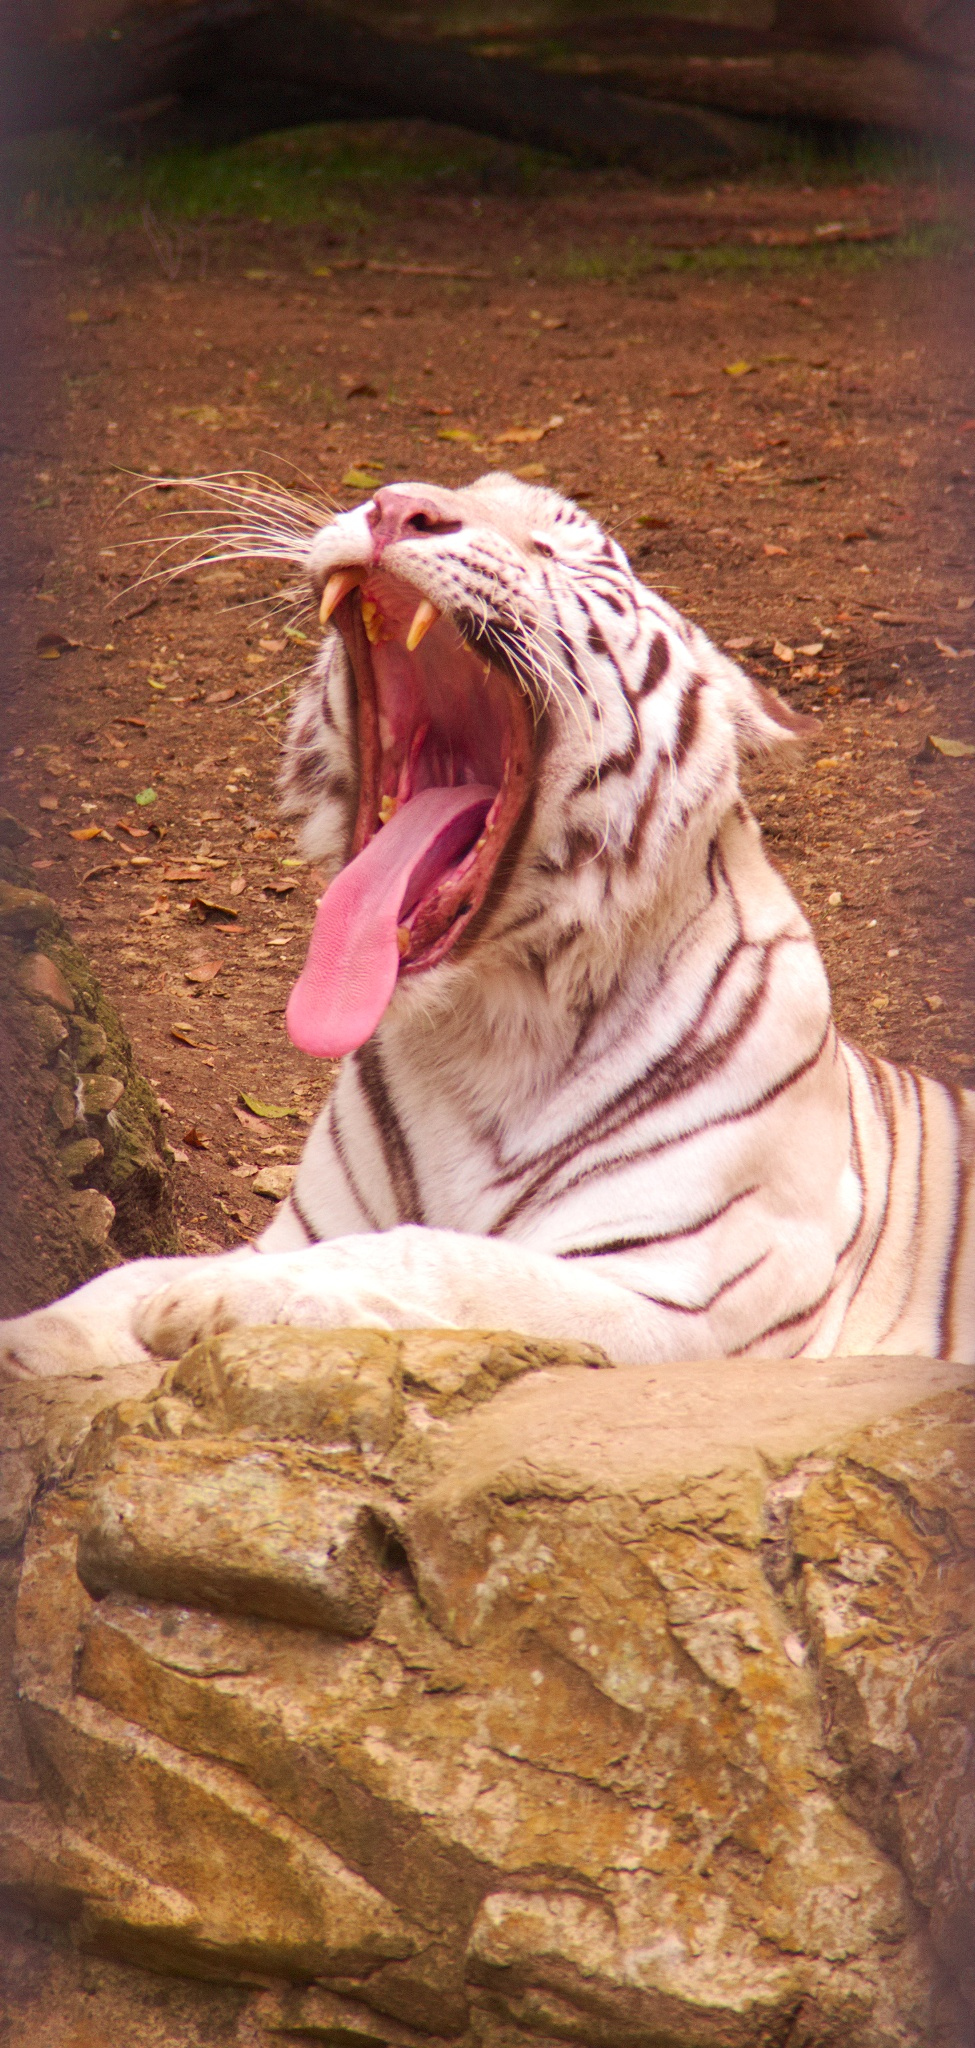tiger: (116, 415, 937, 1496)
